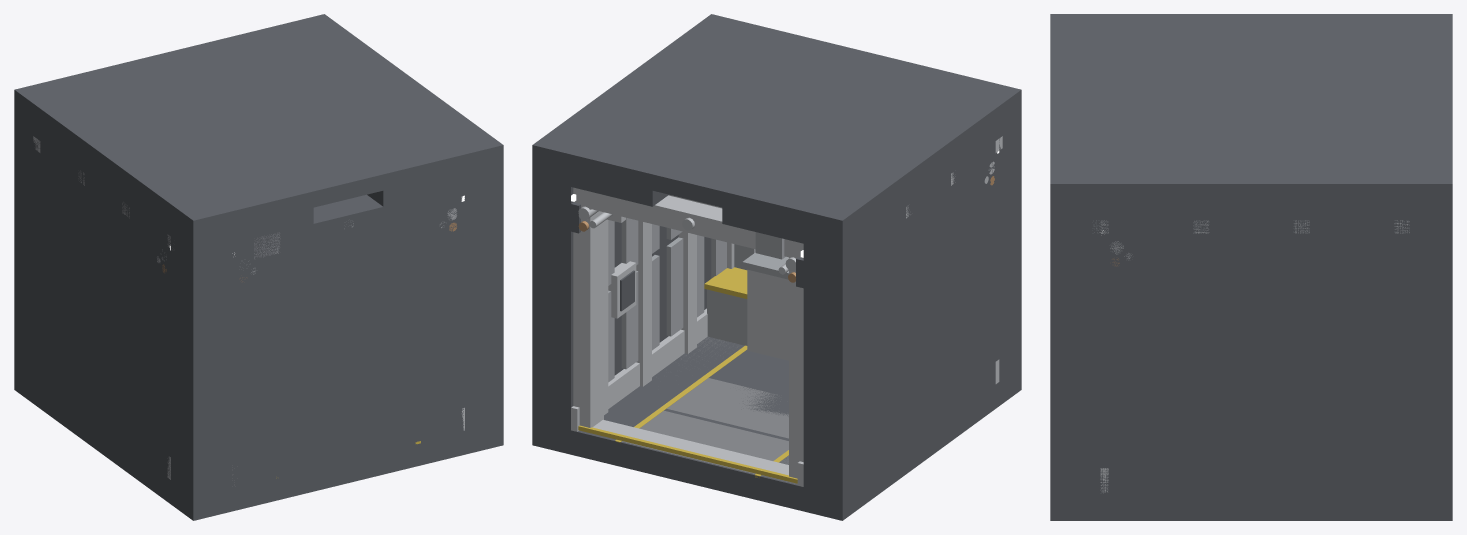
The model's file is corridor_endcap.glb.
3 views of the same model, side by side, from view 1: azimuth 30°, elevation 25°; view 2: azimuth 150°, elevation 25°; view 3: azimuth 270°, elevation 25° (orthographic). The views are drawn at different scales.
Parts seen in each view (by area): view 1: corridor_endcap; view 2: corridor_endcap; view 3: corridor_endcap.
Part boxes in pixels (bbox=[...]): corridor_endcap: bbox=[14, 14, 503, 520]; corridor_endcap: bbox=[532, 14, 1021, 520]; corridor_endcap: bbox=[1050, 14, 1452, 520].
Bounding box in the file's own units: 4 × 3.7 × 4.
